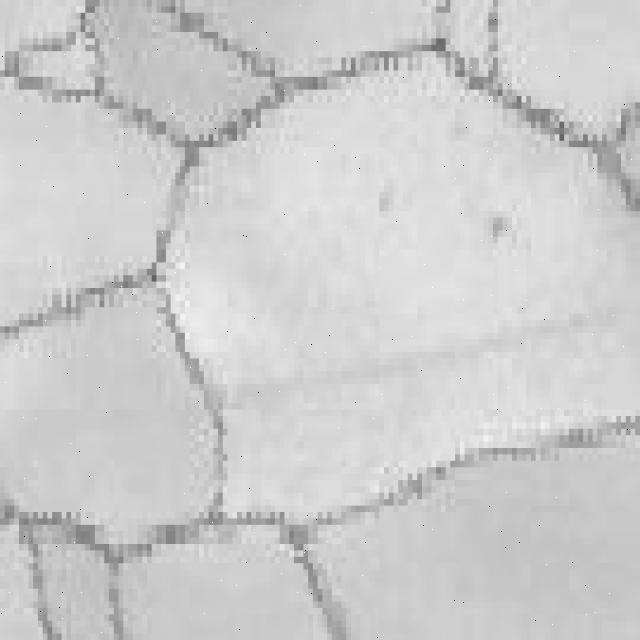good_void: (489, 207, 512, 246)
